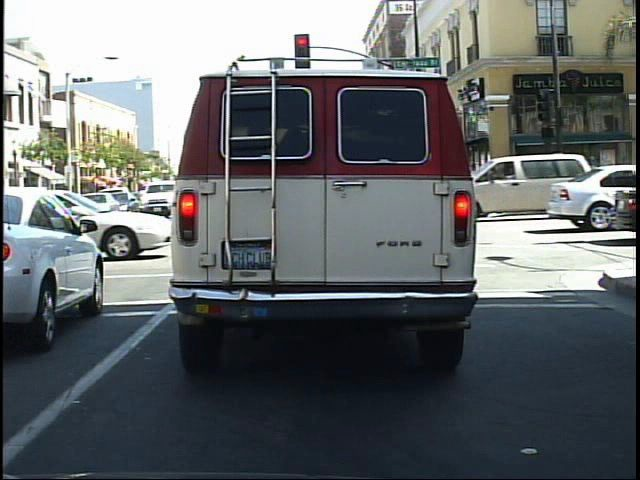person: (536, 154, 563, 215), (516, 157, 541, 215), (485, 156, 504, 214), (495, 164, 514, 212)
